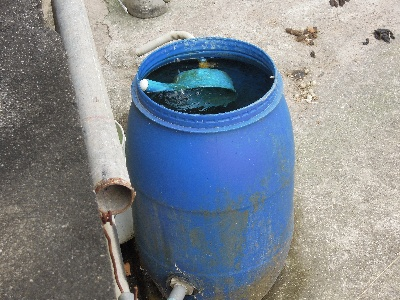bucket: (126, 34, 296, 300)
